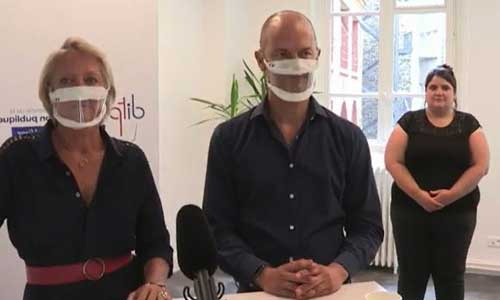with_mask: (258, 15, 324, 112), (46, 57, 113, 133)
without_mask: (423, 74, 457, 117)
